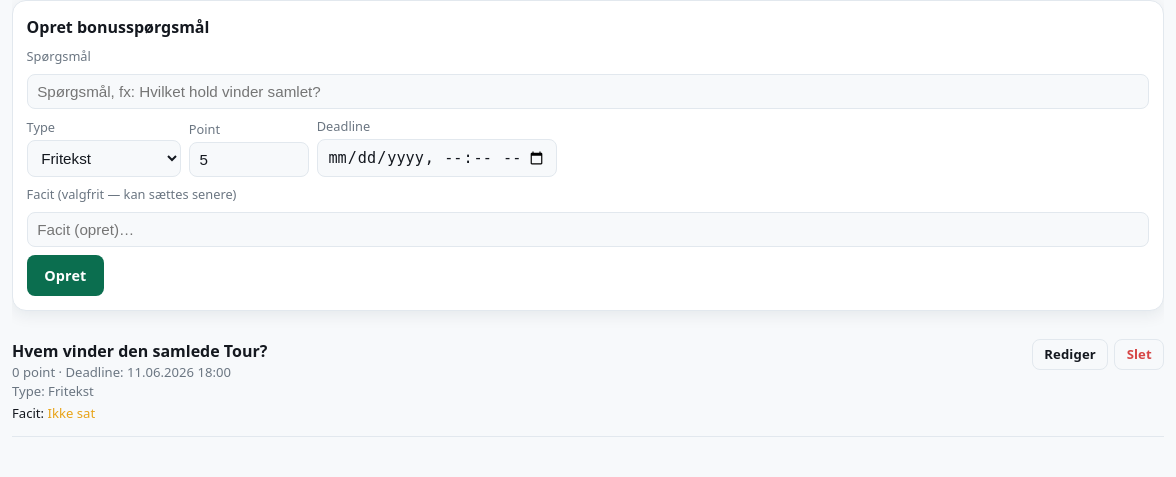
Scenario: BonusTab › viser fejlbesked når sletning fejler
The image size is (1176, 477).
Click the button "Slet" at (1139, 354), box [1114,339,1164,370]
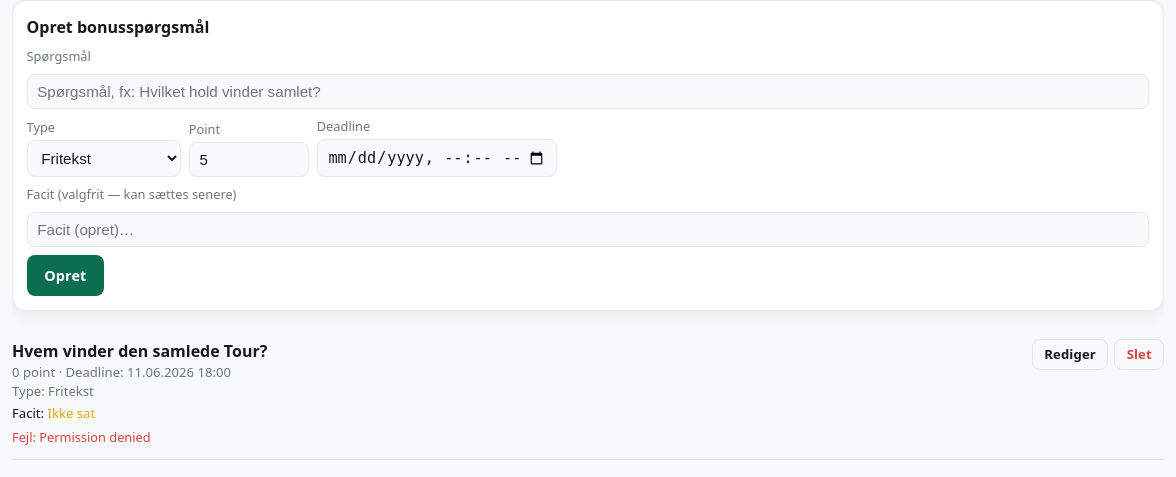
Check: the text "Fejl: Permission denied" is shown, box [12,428,151,446]
